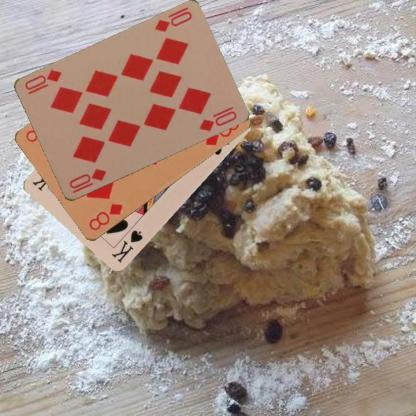10d: (150, 5, 193, 34), (66, 166, 108, 195)
8d: (85, 201, 125, 232)
Ks: (108, 228, 144, 264)
